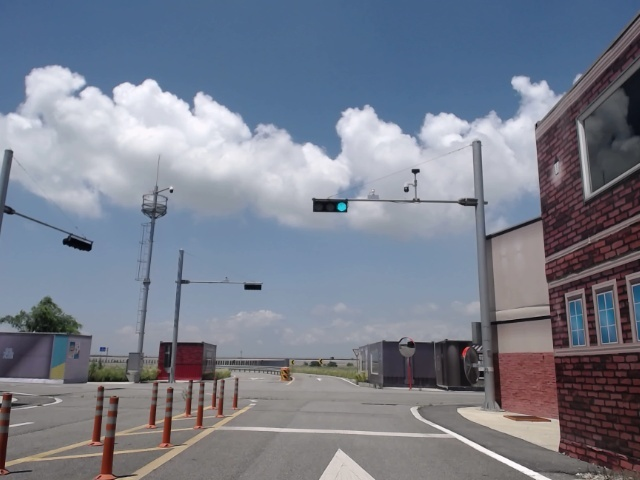green_3: (313, 200, 347, 211)
